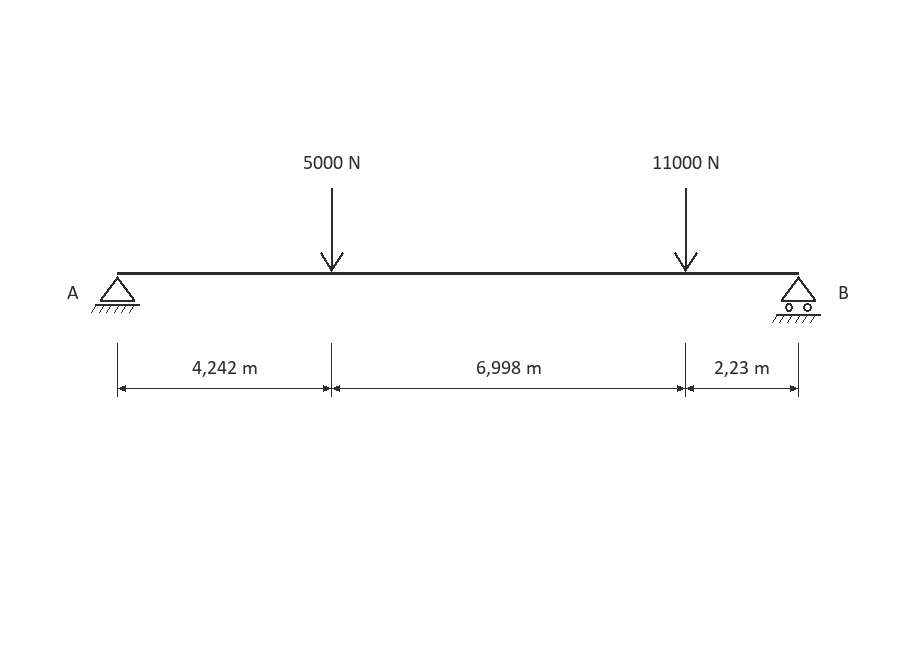pin_support: (91, 276, 140, 313)
point_load: (320, 188, 344, 272), (674, 188, 698, 272)
roller_support: (772, 276, 821, 323)
